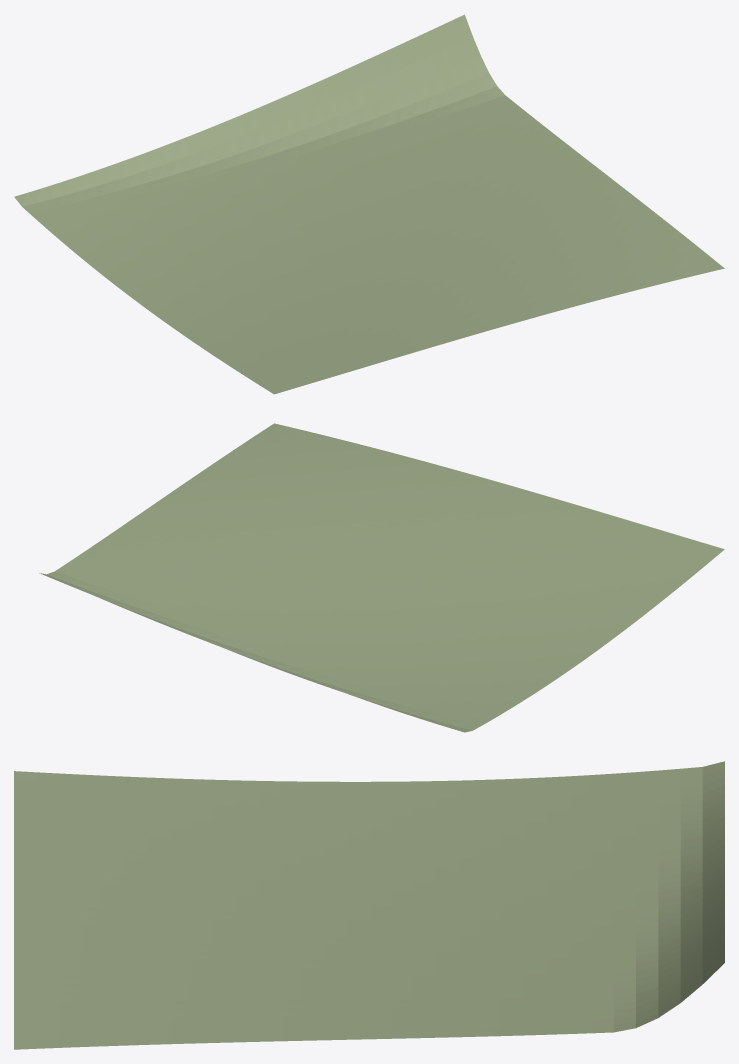
File: alpine-7-12.glb
The picture shows the model from 3 angles, top to bottom: view 1: azimuth 30°, elevation 25°; view 2: azimuth 150°, elevation 25°; view 3: azimuth 270°, elevation 25°; orthographic projection. The views are drawn at different scales.
Parts seen in each view (by area): view 1: alpine-7-12; view 2: alpine-7-12; view 3: alpine-7-12.
Part boxes in pixels (x1,y1,x2,y2): alpine-7-12: (14, 14, 724, 394); alpine-7-12: (39, 423, 724, 732); alpine-7-12: (14, 761, 724, 1049).
Bounding box in the file's own units: 256 × 47.45 × 256.
